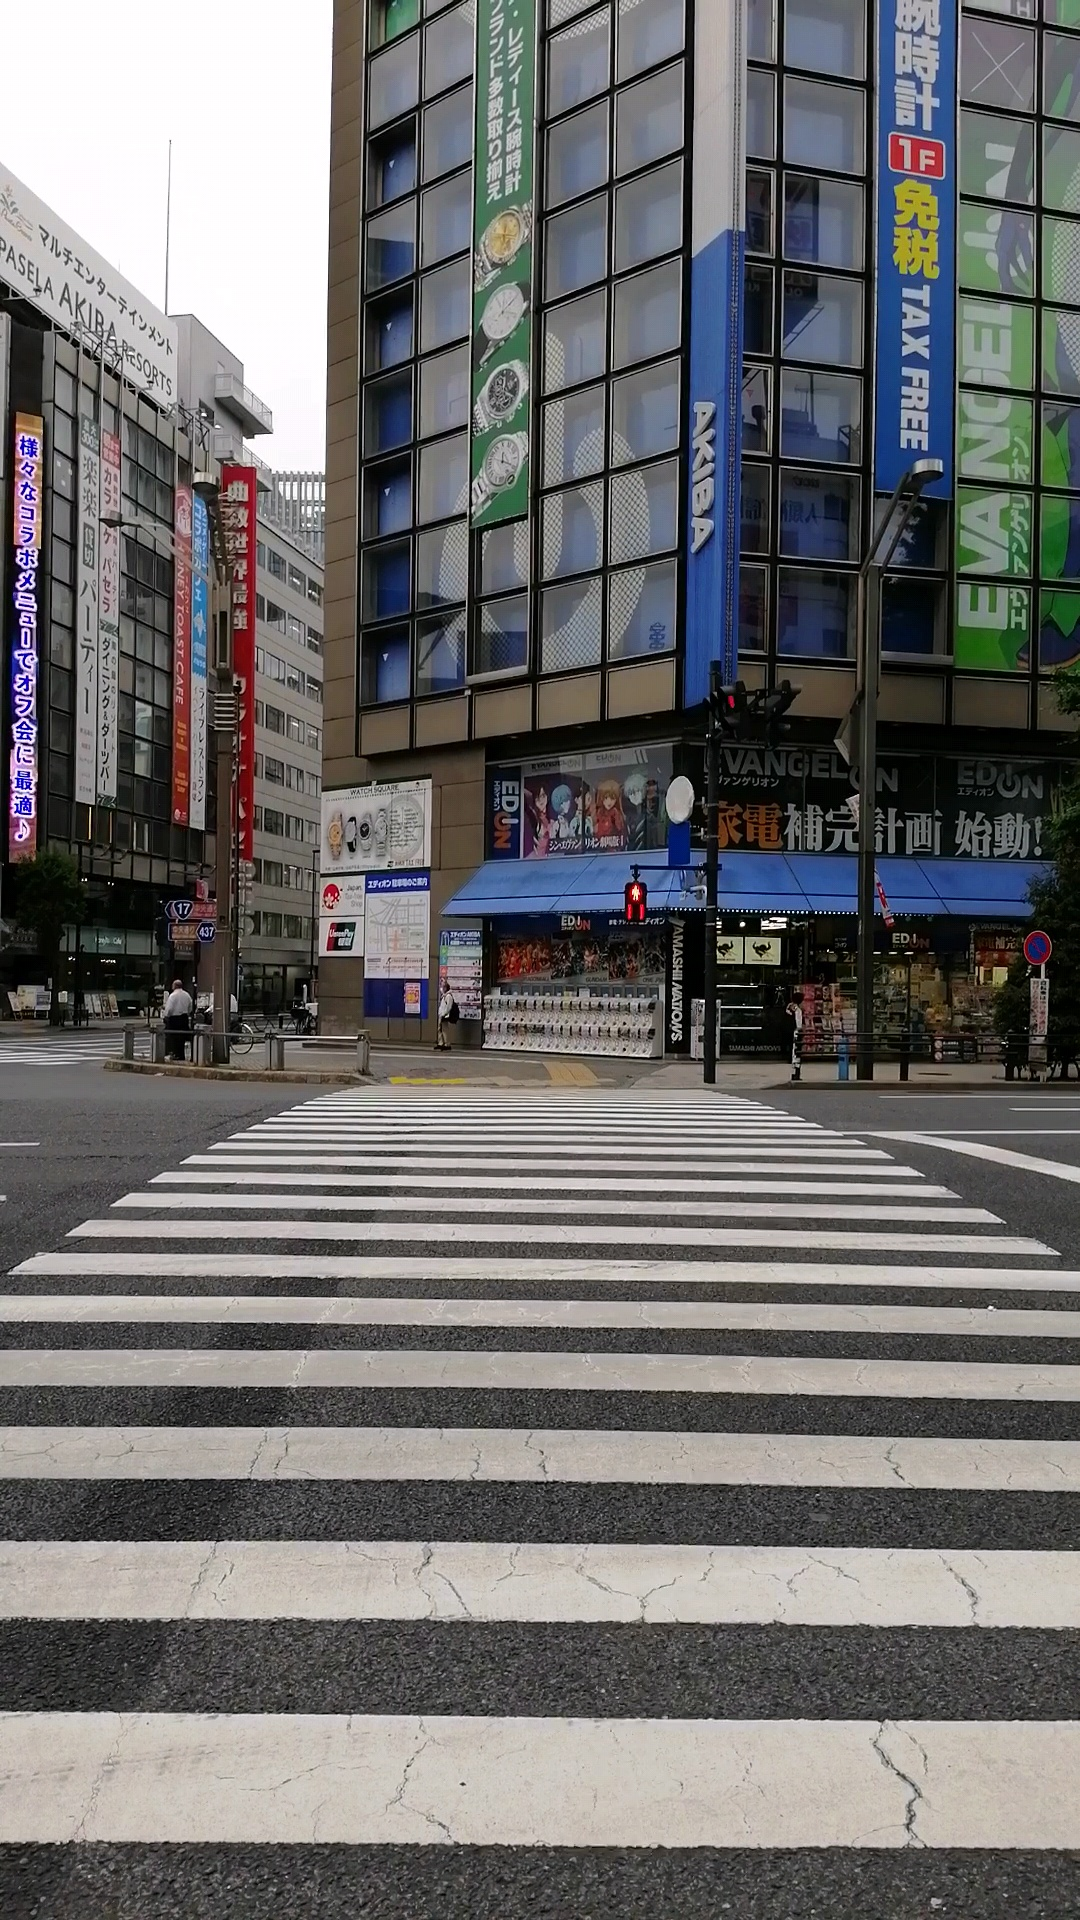red: (624, 882, 647, 922)
